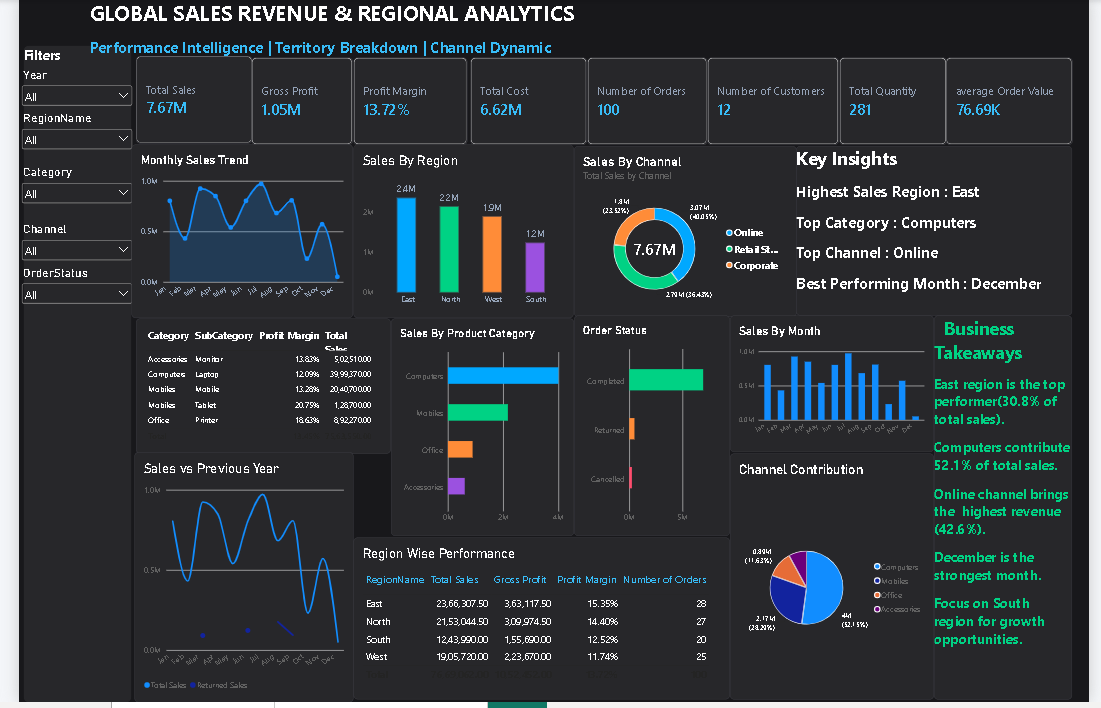

The page's visual inventory and layout, read from the dashboard file:
{"tool":"powerbi","page":{"name":"Sales Performance","canvas":[1950,1280],"ordinal":1},"visuals":[{"type":"shape","box":[8.2,84.7,196.6,1196.3],"z":0},{"type":"textbox","box":[128.4,0,1559.5,106.5],"z":1000},{"type":"slicer","fields":{"Values":["Calendar.Year"]},"box":[0,124.4,211.2,79.8],"z":2000},{"type":"textbox","box":[9.4,84.5,194.7,39.9],"z":3000},{"type":"slicer","fields":{"Values":["Regions.RegionName"]},"box":[0,204.1,211.2,79.8],"z":4000},{"type":"slicer","fields":{"Values":["Products.Category"]},"box":[0,302.7,211.2,79.8],"z":5000},{"type":"slicer","fields":{"Values":["Sales.Channel"]},"box":[0,405.9,211.2,79.8],"z":6000},{"type":"cardVisual","fields":{"Data":["_Measure.Total Sales"]},"box":[212,103.7,212,159],"z":7000},{"type":"cardVisual","fields":{"Data":["_Measure.Number of Orders"]},"box":[1034.7,106,218.9,159],"z":8000},{"type":"cardVisual","fields":{"Data":["_Measure.Profit Margin"]},"box":[608.4,106,207.4,159],"z":9000},{"type":"cardVisual","fields":{"Data":["_Measure.Gross Profit"]},"box":[424,106,184.4,159],"z":10000},{"type":"cardVisual","fields":{"Data":["_Measure.Number of Customers"]},"box":[1253.6,106,239.7,159],"z":11000},{"type":"cardVisual","fields":{"Data":["_Measure.Total Quantity"]},"box":[1493.3,106,195.9,159],"z":12000},{"type":"cardVisual","fields":{"Data":["_Measure.average Order Value"]},"box":[1689.2,106,230.4,159],"z":13000},{"type":"cardVisual","fields":{"Data":["_Measure.Total Cost"]},"box":[822.7,106,212,159],"z":14000},{"type":"slicer","fields":{"Values":["Sales.OrderStatus"]},"box":[0,485.7,211.2,89.2],"z":15000},{"type":"areaChart","title":"Monthly Sales Trend","fields":{"Category":["Calendar.MonthName"],"Y":["_Measure.Total Sales"]},"box":[205.1,265,403.3,315.7],"z":16000},{"type":"clusteredColumnChart","title":"Sales By Region","fields":{"Category":["Regions.RegionName"],"Y":["_Measure.Total Sales"]},"box":[608.4,265,401,315.7],"z":17000},{"type":"donutChart","title":"Sales By Channel","fields":{"Category":["Sales.Channel"],"Y":["_Measure.Total Sales"]},"box":[1009.4,267.3,405.6,311.1],"z":18000},{"type":"tableEx","fields":{"Values":["Products.Category","Products.SubCategory","_Measure.Profit Margin","_Measure.Total Sales"]},"box":[213,581.7,464.3,245.8],"z":19000},{"type":"clusteredBarChart","title":"Sales By Product Category","fields":{"Category":["Products.Category"],"Y":["_Measure.Total Sales"]},"box":[677.3,581.7,333.2,396],"z":20000},{"type":"clusteredBarChart","title":"Order Status","fields":{"Category":["Sales.OrderStatus"],"Y":["_Measure.Total Sales"]},"box":[1010.5,576.3,284,401.5],"z":21000},{"type":"clusteredColumnChart","title":"Sales By Month","fields":{"Category":["Calendar.MonthName"],"Y":["_Measure.Total Sales"]},"box":[1294.6,576.3,371.4,248.5],"z":22000},{"type":"lineChart","title":"Sales vs Previous Year","fields":{"Category":["Calendar.MonthName"],"Y":["_Measure.Total Sales","_Measure.Returned Sales"]},"box":[210.3,824.8,398.8,456.1],"z":23000},{"type":"tableEx","title":"Region Wise Performance","fields":{"Values":["Regions.RegionName","_Measure.Total Sales","_Measure.Gross Profit","_Measure.Profit Margin","_Measure.Number of Orders"]},"box":[609.1,980.5,685.5,295],"z":24000},{"type":"pieChart","title":"Channel Contribution","fields":{"Category":["Products.Category"],"Y":["_Measure.Total Sales"]},"box":[1294.6,827.6,371.4,447.9],"z":25000},{"type":"textbox","box":[1414.8,267.7,502.5,308.6],"z":26000},{"type":"textbox","box":[1666,576.3,251.3,699.2],"z":27000}]}

Visuals, with their boxes in screenshot pixels (x1, y1, x2, y2), scaled from the page's 1950x1280 canvas onto the 1101x708 screenshot:
shape: (5, 47, 116, 707)
textbox: (72, 0, 953, 59)
slicer - Calendar.Year: (0, 69, 119, 113)
textbox: (5, 47, 115, 69)
slicer - Regions.RegionName: (0, 113, 119, 157)
slicer - Products.Category: (0, 167, 119, 212)
slicer - Sales.Channel: (0, 225, 119, 269)
cardVisual - _Measure.Total Sales: (120, 57, 239, 145)
cardVisual - _Measure.Number of Orders: (584, 59, 708, 147)
cardVisual - _Measure.Profit Margin: (344, 59, 461, 147)
cardVisual - _Measure.Gross Profit: (239, 59, 344, 147)
cardVisual - _Measure.Number of Customers: (708, 59, 843, 147)
cardVisual - _Measure.Total Quantity: (843, 59, 954, 147)
cardVisual - _Measure.average Order Value: (954, 59, 1084, 147)
cardVisual - _Measure.Total Cost: (465, 59, 584, 147)
slicer - Sales.OrderStatus: (0, 269, 119, 318)
"Monthly Sales Trend" areaChart: (116, 147, 344, 321)
"Sales By Region" clusteredColumnChart: (344, 147, 570, 321)
"Sales By Channel" donutChart: (570, 148, 799, 320)
tableEx - Products.Category x Products.SubCategory: (120, 322, 382, 458)
"Sales By Product Category" clusteredBarChart: (382, 322, 571, 541)
"Order Status" clusteredBarChart: (571, 319, 731, 541)
"Sales By Month" clusteredColumnChart: (731, 319, 941, 456)
"Sales vs Previous Year" lineChart: (119, 456, 344, 707)
"Region Wise Performance" tableEx: (344, 542, 731, 706)
"Channel Contribution" pieChart: (731, 458, 941, 706)
textbox: (799, 148, 1083, 319)
textbox: (941, 319, 1083, 706)
